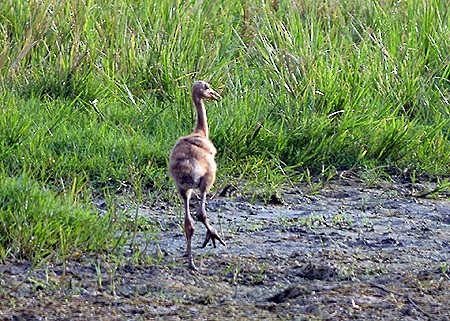crane: (167, 77, 224, 278)
